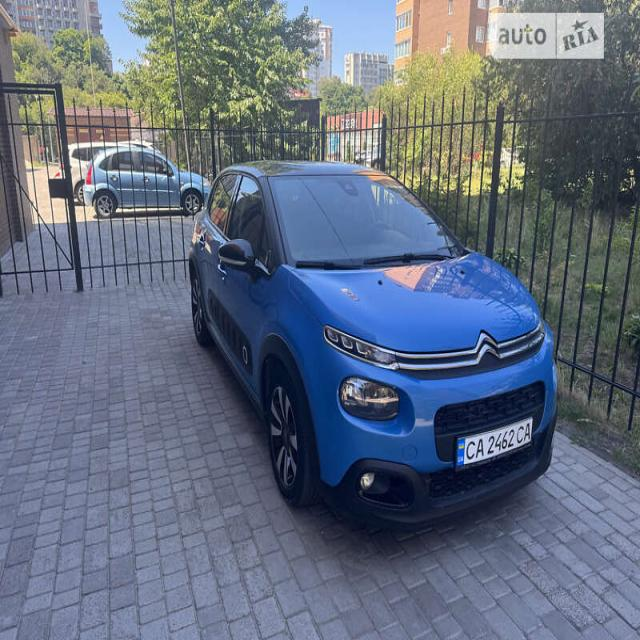plate: (455, 413, 537, 465)
